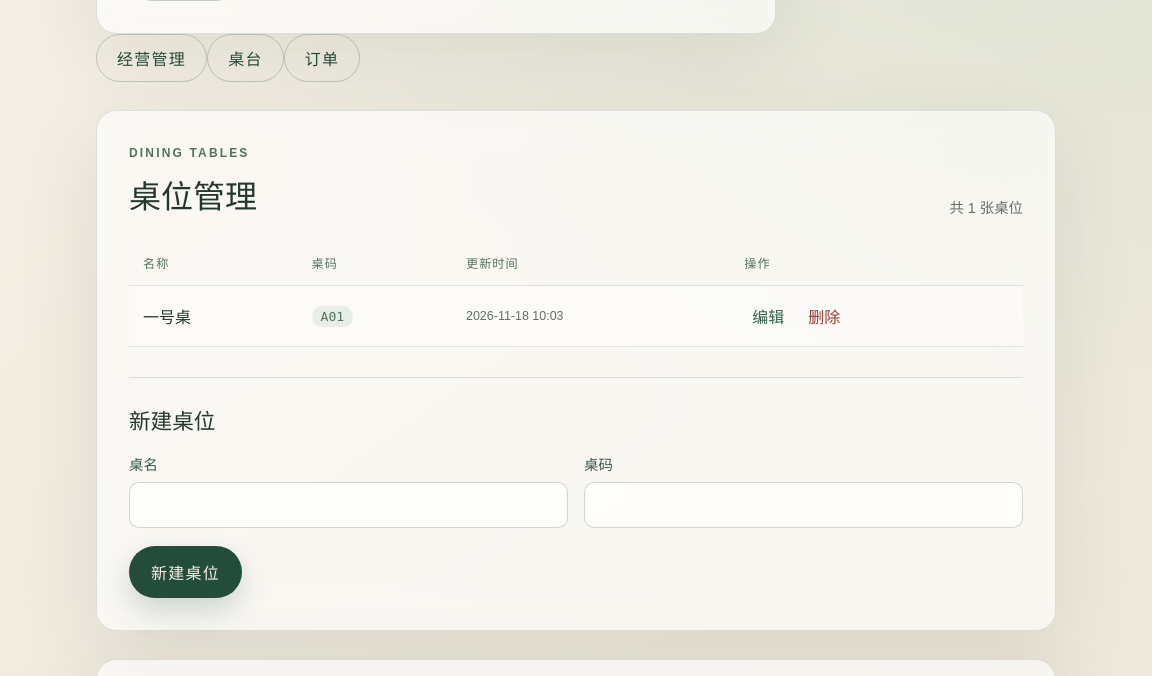
Scenario: dining table management for signed-in staff › keeps the row and explains a referenced table delete conflict
(page scrolled)
expect the text "一号桌" is shown: met, box [129,286,298,346]
Click the button "删除": x=824, y=316 [800,299,848,333]
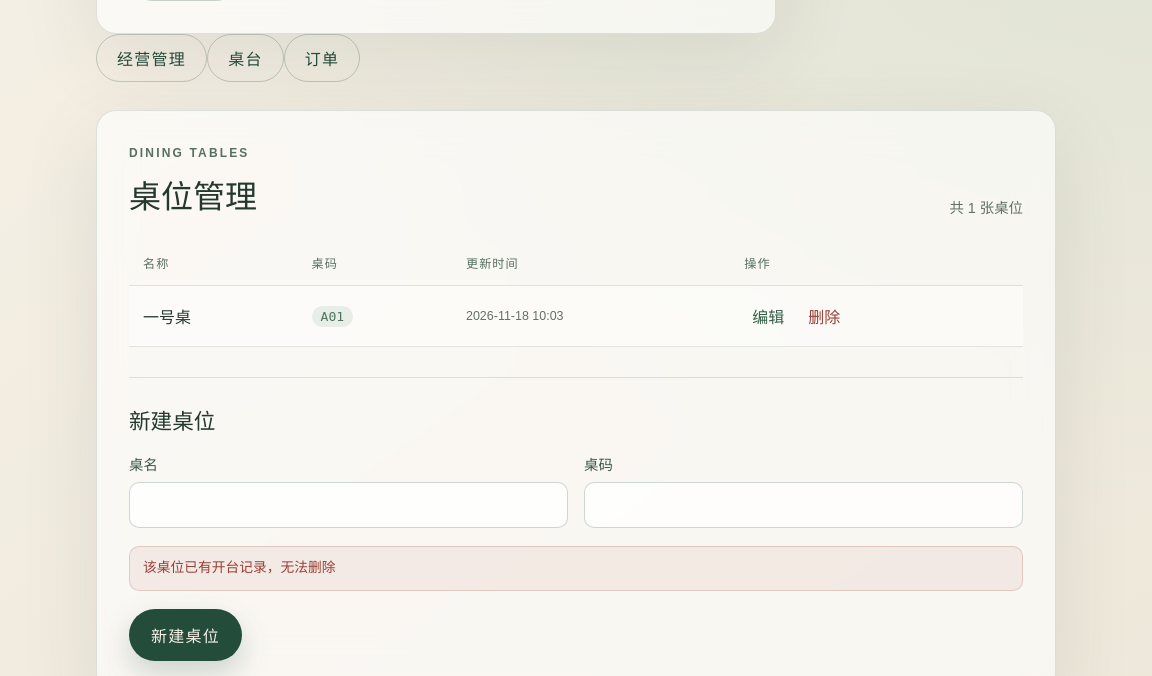
expect the text "一号桌" is shown: met, box [129,286,298,346]
expect the text "该桌位已有开台记录，无法删除" is shown: met, box [129,546,1023,591]
